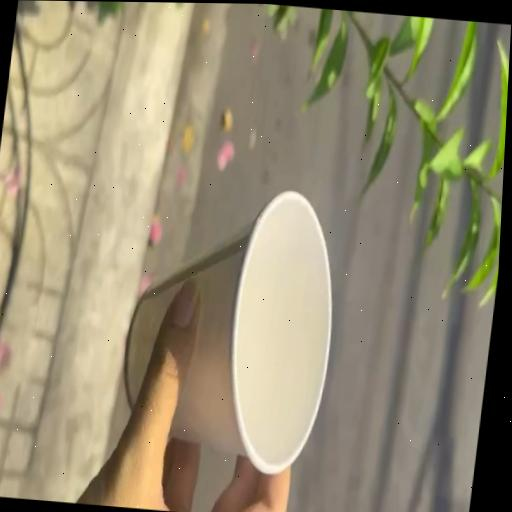Ly_giay: (124, 193, 331, 474)
